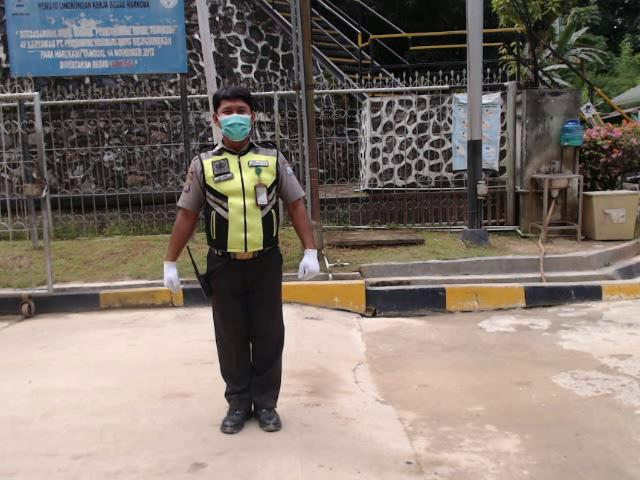gloves: (296, 247, 322, 282), (161, 259, 186, 295)
mask: (217, 114, 253, 141)
safety-shoes: (219, 406, 254, 437), (253, 405, 283, 435)
